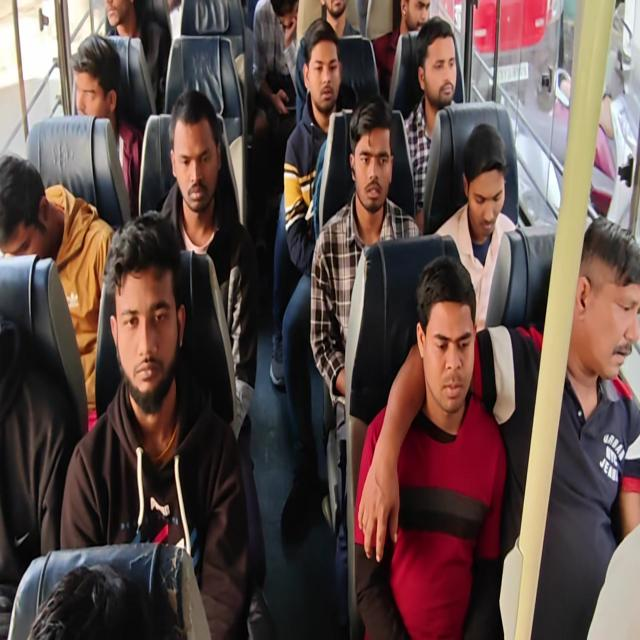person: (2, 0, 638, 638), (358, 215, 640, 638), (59, 210, 250, 638), (309, 94, 422, 637), (353, 254, 508, 638), (279, 18, 355, 536), (155, 88, 258, 440), (0, 153, 116, 428), (432, 122, 517, 333), (71, 32, 143, 217), (28, 562, 184, 639), (403, 16, 458, 230), (294, 0, 379, 121), (103, 0, 171, 114), (252, 0, 300, 134), (372, 0, 431, 103)
